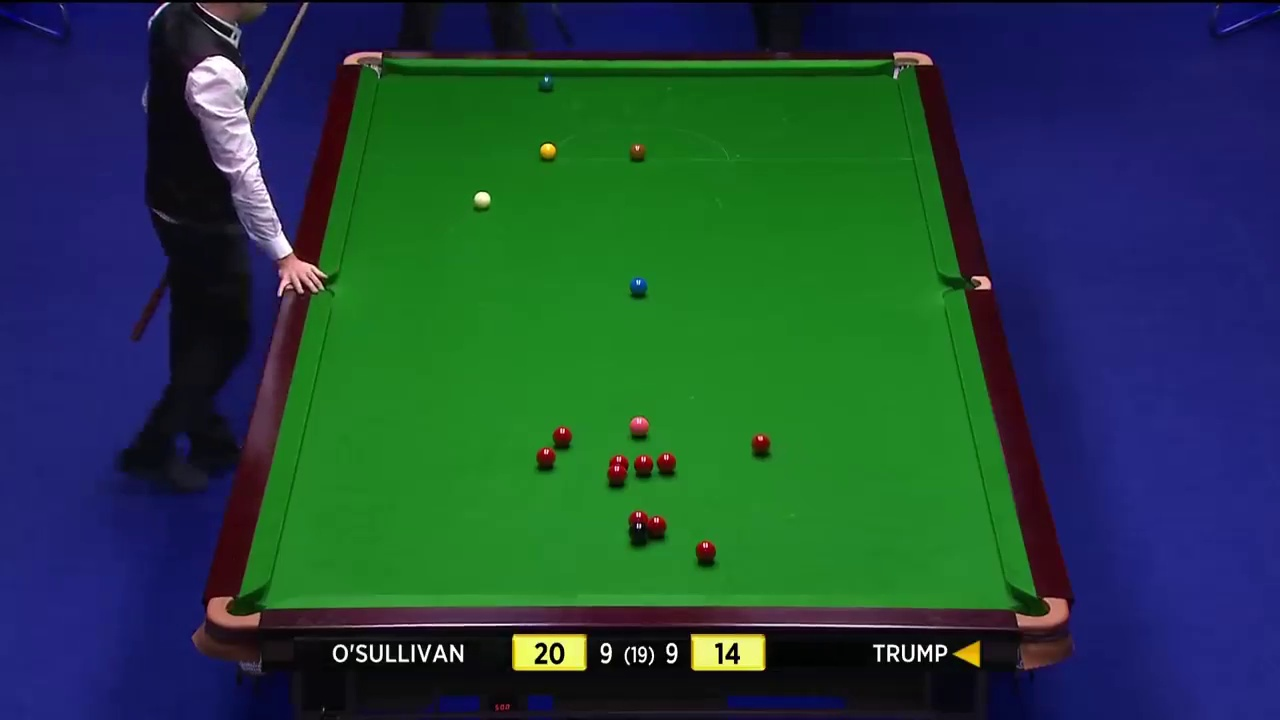ball: (695, 539, 716, 567), (604, 464, 628, 485), (657, 453, 680, 474), (534, 447, 559, 466), (627, 276, 649, 295), (749, 434, 772, 452), (538, 138, 556, 160), (626, 141, 646, 160), (536, 69, 554, 89), (474, 188, 494, 206), (627, 417, 648, 434)
